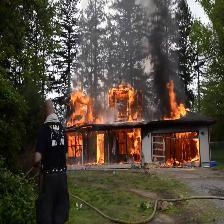fire: (36, 65, 214, 170)
